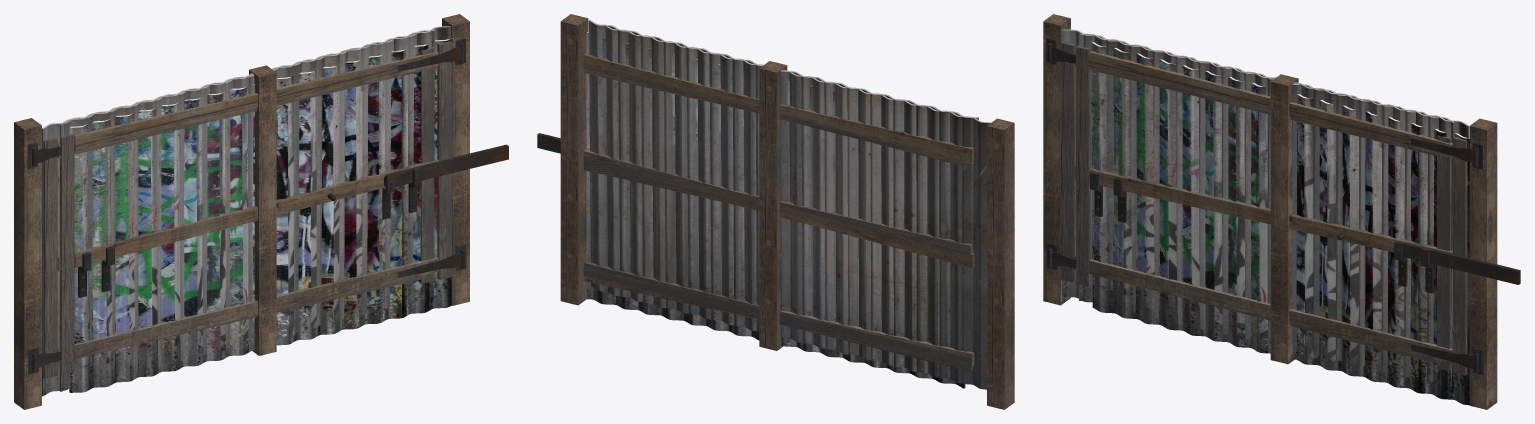
File: fence.glb
3 renders of one model, left to right at view 1: azimuth 30°, elevation 25°; view 2: azimuth 150°, elevation 25°; view 3: azimuth 330°, elevation 25°, orthographic.
Parts seen in each view (by area): view 1: PanelStyle_B, DoorLeft, DoorRight, PanelStyle_A, DoorPostLeft, Post_wood, DoorPostRight, Latch; view 2: DoorLeft, DoorRight, PanelStyle_A, PanelStyle_B, DoorPostLeft, DoorPostRight, Post_wood; view 3: DoorLeft, PanelStyle_A, PanelStyle_B, DoorRight, DoorPostRight, Post_wood, DoorPostLeft, Latch.
Boxes of the visible parts, x1,y1,x2,y2 form: PanelStyle_B: (69,40,447,392); DoorLeft: (36,30,435,396); DoorRight: (60,26,461,391); PanelStyle_A: (70,38,451,391); DoorPostLeft: (14,118,41,409); Post_wood: (249,65,276,355); DoorPostRight: (442,14,469,305); Latch: (384,144,508,187); DoorLeft: (604,24,991,389); DoorRight: (588,19,978,384); PanelStyle_A: (583,31,973,388); PanelStyle_B: (583,32,974,388); DoorPostLeft: (987,118,1014,409); DoorPostRight: (560,14,588,305); Post_wood: (759,61,787,350); DoorLeft: (1051,29,1454,387); PanelStyle_A: (1091,42,1469,405); PanelStyle_B: (1091,42,1463,404); DoorRight: (1076,33,1474,375); DoorPostRight: (1469,118,1497,409); Post_wood: (1270,74,1298,364); DoorPostLeft: (1043,14,1070,305); Latch: (1398,241,1520,284).
Bounding box in the file's own units: 4.78 × 2.67 × 0.2952.
6 materials, 6 textured.
